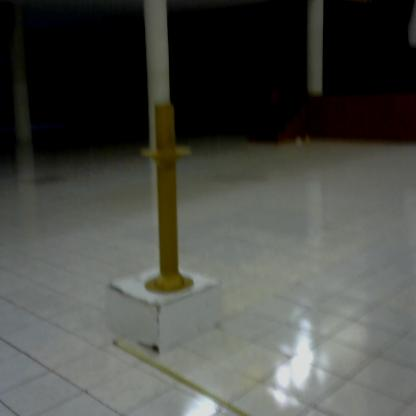pole: (132, 100, 204, 304)
